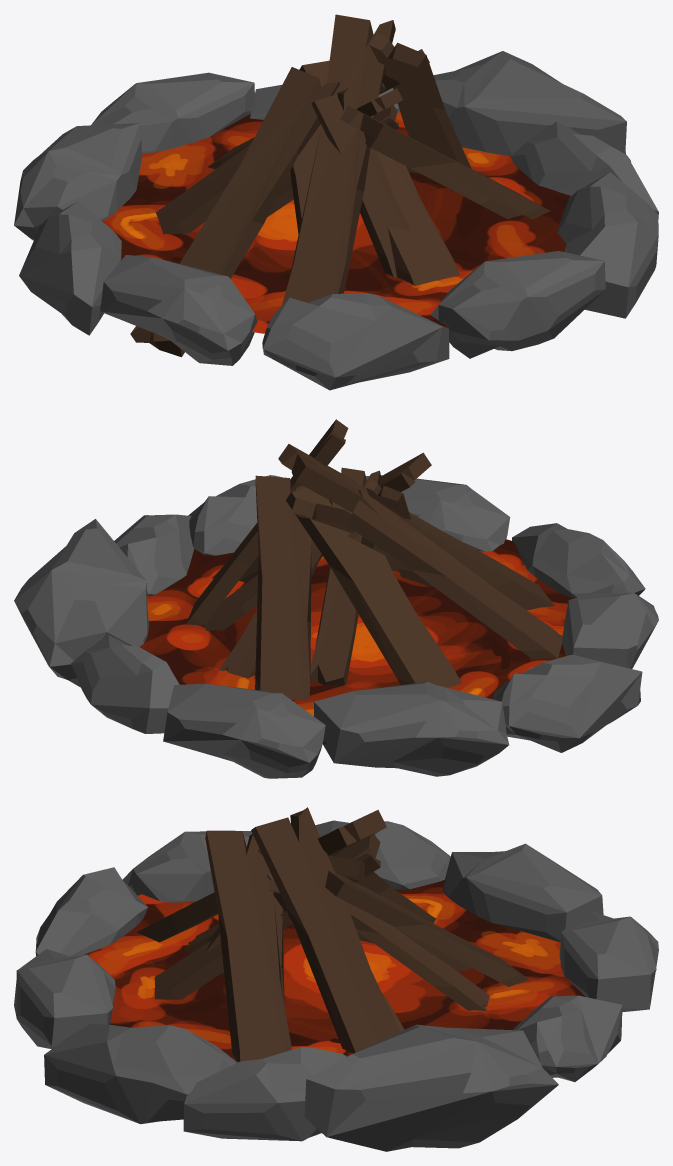
File: campfire.fbx
3 renders of one model, top to bottom at view 1: azimuth 30°, elevation 25°; view 2: azimuth 150°, elevation 25°; view 3: azimuth 270°, elevation 25°, orthographic. The views are drawn at different scales.
Visible parts, largest first — view 1: Cube, Cube.021, Circle; view 2: Cube, Cube.021, Circle; view 3: Cube, Cube.021, Circle.
Part boxes in pixels (box(x1,y1,x2,y2)): Cube: box(14, 51, 658, 390); Cube.021: box(130, 14, 550, 357); Circle: box(102, 111, 570, 333); Cube: box(14, 475, 658, 778); Cube.021: box(185, 419, 562, 700); Circle: box(140, 539, 574, 743); Cube: box(14, 820, 658, 1151); Cube.021: box(136, 807, 529, 1061); Circle: box(83, 879, 585, 1062).
Size of the model in its own units: 349 by 150 by 339.
